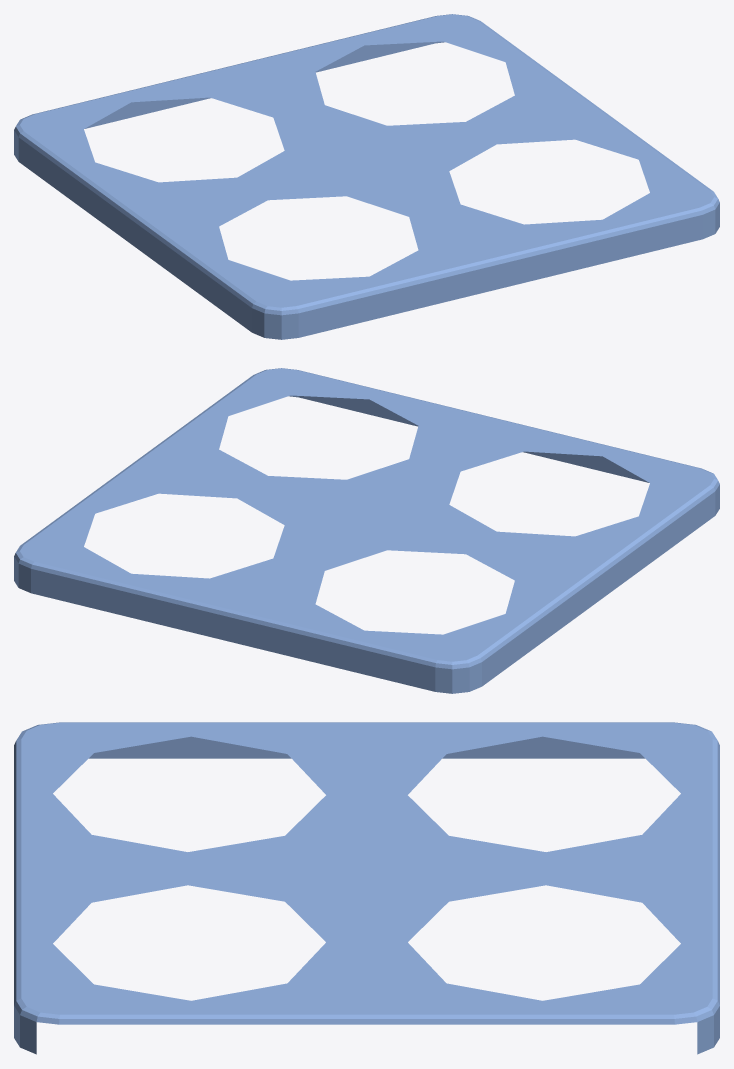
Rendered from icecek_stack.fbx.
The picture shows the model from 3 angles, top to bottom: view 1: azimuth 30°, elevation 25°; view 2: azimuth 150°, elevation 25°; view 3: azimuth 270°, elevation 25°; orthographic projection. The views are drawn at different scales.
Parts seen in each view (by area): view 1: bevetage_stack.001; view 2: bevetage_stack.001; view 3: bevetage_stack.001.
Part boxes in pixels (x1,y1,x2,y2): bevetage_stack.001: (14,14,719,339); bevetage_stack.001: (14,368,719,693); bevetage_stack.001: (14,722,719,1054).
Size of the model in its own units: 276 by 16.9 by 276.
